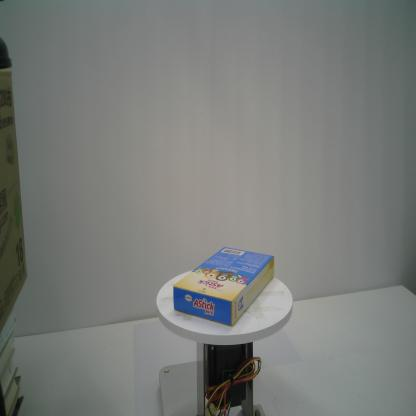Dessert: (172, 245, 276, 330)
